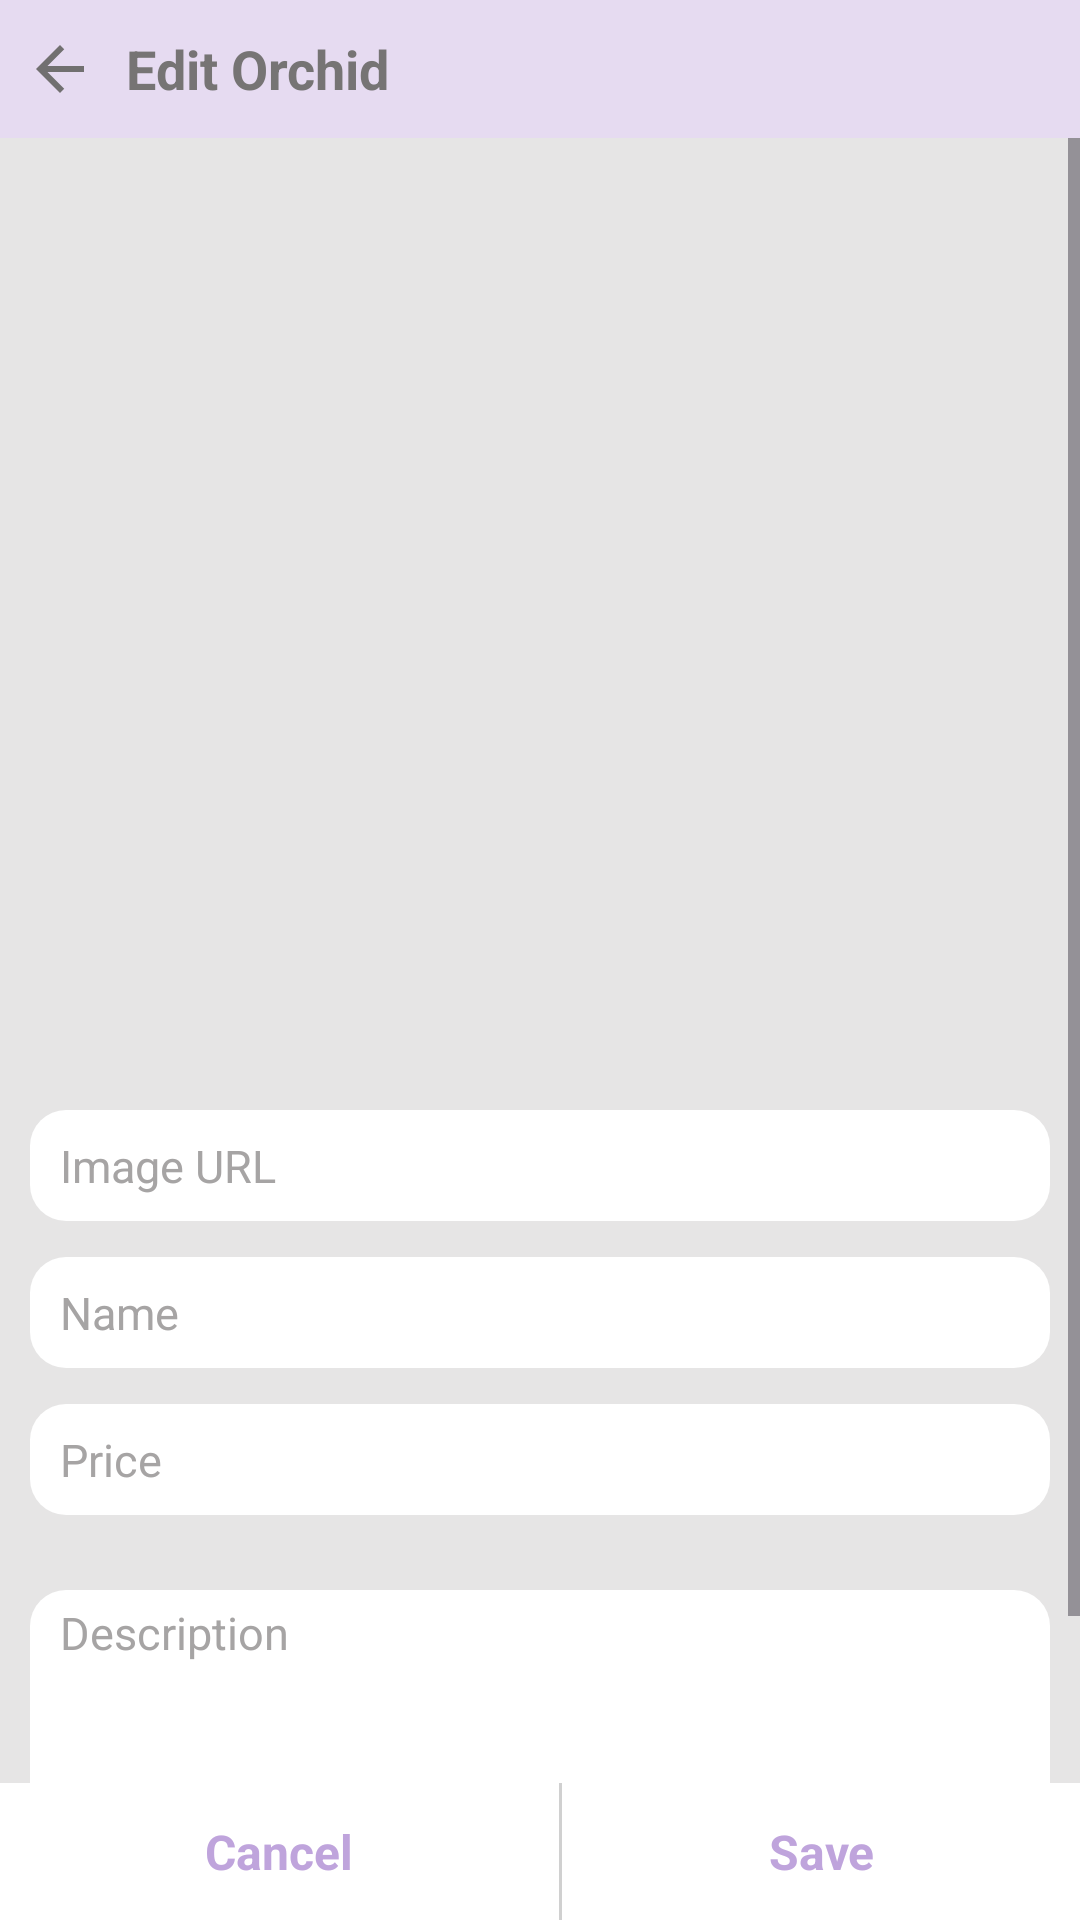

Icons on this 1080×1920 Android screen, each with its box as (x1, y1, x2, y2):
cart back: (36, 45, 84, 93)
